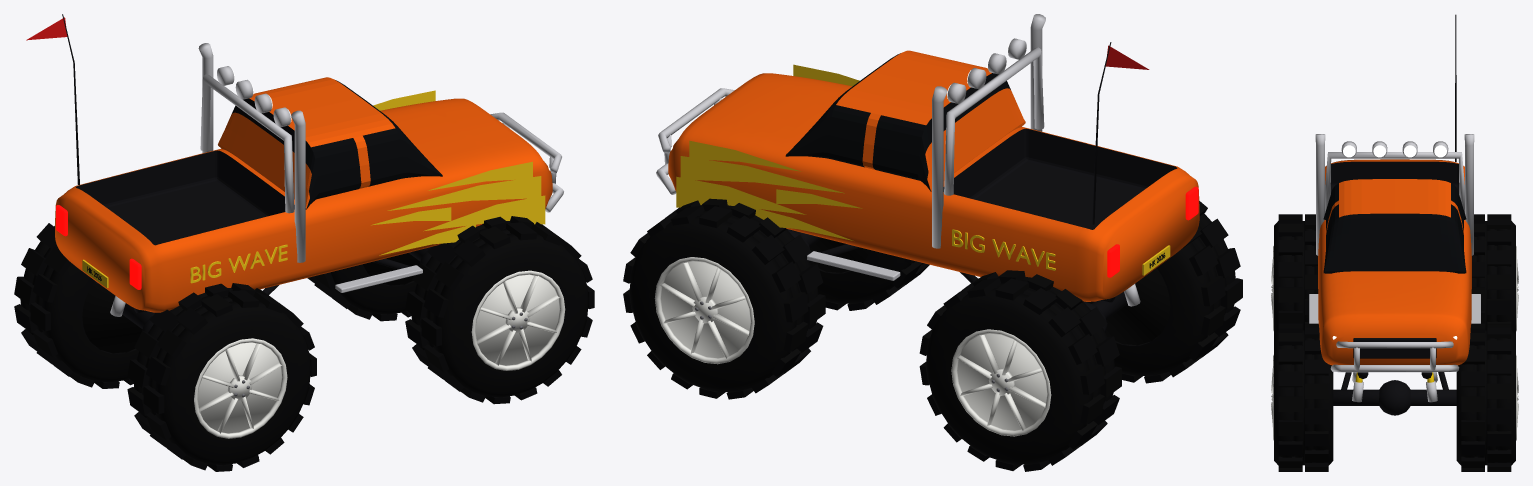
Rendered from monster.glb.
The picture shows the model from 3 angles, left to right: view 1: azimuth 30°, elevation 25°; view 2: azimuth 150°, elevation 25°; view 3: azimuth 270°, elevation 25°; orthographic projection. The views are drawn at different scales.
Parts seen in each view (by area): view 1: body, cab, w_tyre.003, w_tyre.001, flames.001, w_tyre.002, w_barrel.001, w_barrel.003, w_back.002, rollbar, w_tyre, stack.001 (+8 smaller); view 2: body, cab, w_tyre.002, w_tyre, flames, w_tyre.003, w_barrel, w_barrel.002, w_back.003, rollbar, w_tyre.001, stack (+8 smaller); view 3: body, cab, w_tyre, w_tyre.001, w_tyre.002, w_tyre.003, axle, rollbar, grille, diff, bullbar, stack.001 (+40 smaller).
Part boxes in pixels (x1,y1,x2,y2): body: (55, 98, 552, 312); cab: (218, 77, 442, 209); w_tyre.003: (133, 288, 310, 465); w_tyre.001: (411, 221, 588, 397); flames.001: (371, 161, 545, 255); w_tyre.002: (20, 226, 138, 382); w_barrel.001: (475, 274, 559, 365); w_barrel.003: (197, 342, 281, 433); w_back.002: (82, 281, 155, 353); rollbar: (200, 74, 294, 213); w_tyre: (331, 264, 416, 314); stack.001: (291, 110, 305, 262); body: (668, 73, 1199, 301); cab: (785, 50, 1025, 191); w_tyre.002: (926, 277, 1114, 464); w_tyre: (629, 205, 818, 392); flames: (676, 140, 862, 240); w_tyre.003: (1114, 213, 1235, 376); w_barrel: (661, 261, 750, 358); w_barrel.002: (957, 333, 1047, 430); w_back.003: (1087, 268, 1170, 345); rollbar: (944, 47, 1044, 195); w_tyre.001: (817, 250, 915, 303); stack: (932, 86, 947, 248); body: (1318, 159, 1471, 365); cab: (1323, 179, 1466, 273); w_tyre: (1456, 330, 1515, 465); w_tyre.001: (1274, 330, 1333, 465); w_tyre.002: (1472, 221, 1515, 334); w_tyre.003: (1274, 221, 1318, 334); axle: (1333, 389, 1456, 405); rollbar: (1325, 152, 1464, 212); grille: (1353, 338, 1436, 358); diff: (1378, 380, 1411, 415); bullbar: (1330, 364, 1459, 372); stack.001: (1315, 134, 1325, 255).
Size of the model in its own units: 5.75 by 4.57 by 3.26.
